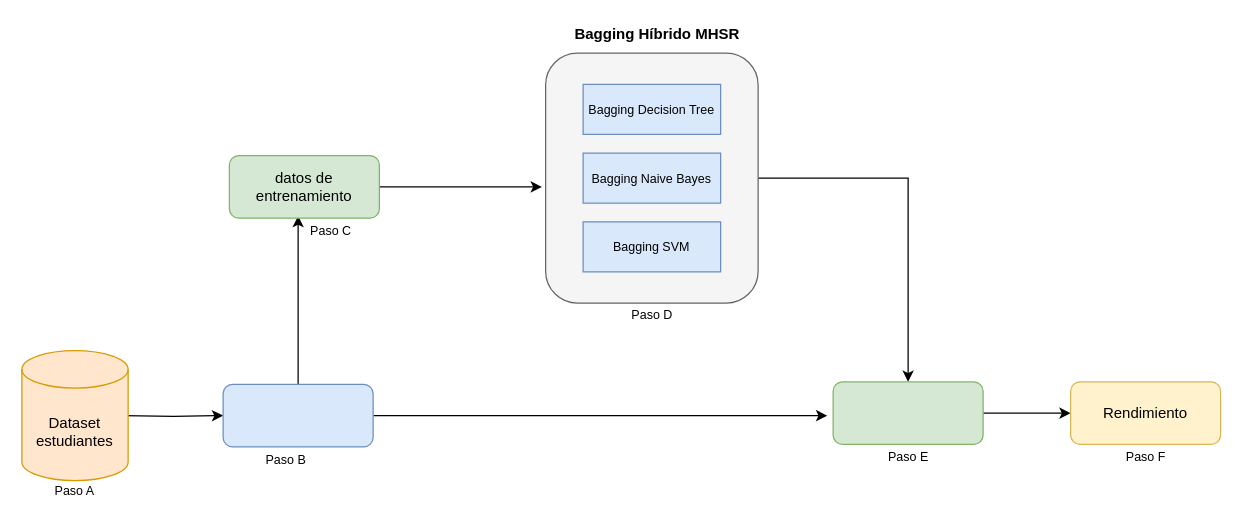
Some shapes in this 1243 by 524 pixel diagram are drawn without their labels. Here are the shapes that lost their labels. From the top down, the centre of each, then its label:
At [297,415]: "Separar conjunto de datos".
At [907,412]: "Validar modelo con datos de prueba".
